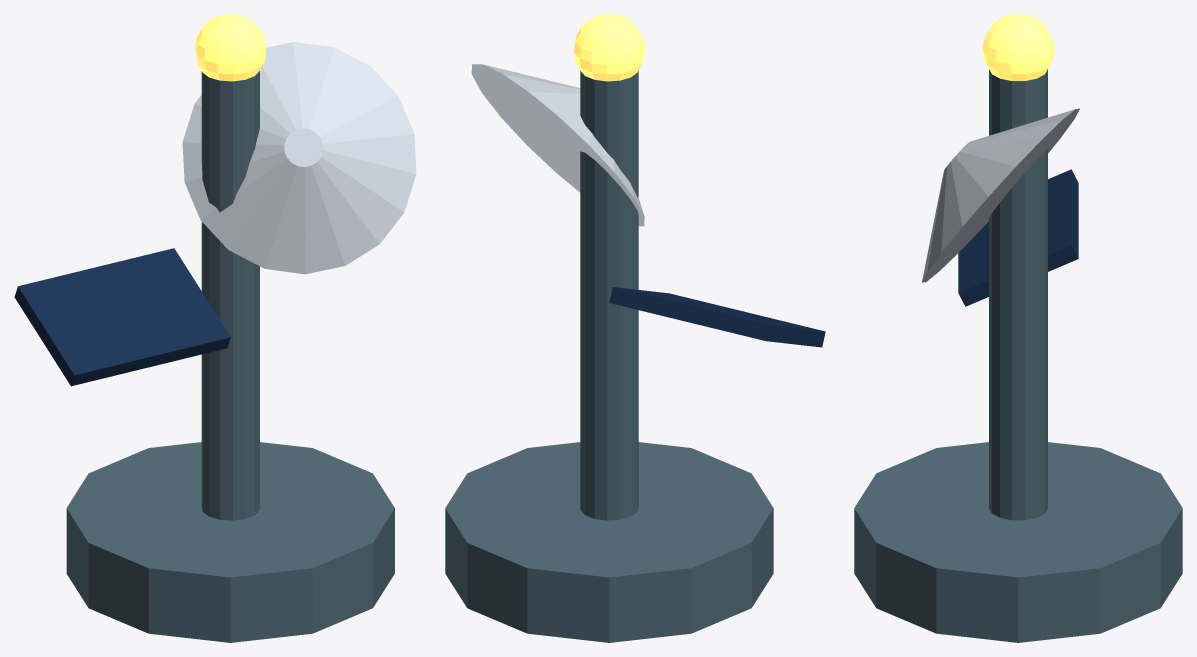
File: weather_tower.glb
3 renders of one model, left to right at view 1: azimuth 30°, elevation 25°; view 2: azimuth 150°, elevation 25°; view 3: azimuth 270°, elevation 25°, orthographic.
Parts seen in each view (by area): view 1: weather_tower; view 2: weather_tower; view 3: weather_tower.
Boxes of the visible parts, x1,y1,x2,y2 form: weather_tower: [14, 14, 416, 642]; weather_tower: [445, 14, 825, 642]; weather_tower: [854, 14, 1182, 642].
Bounding box in the file's own units: 1.2 × 1.87 × 1.
